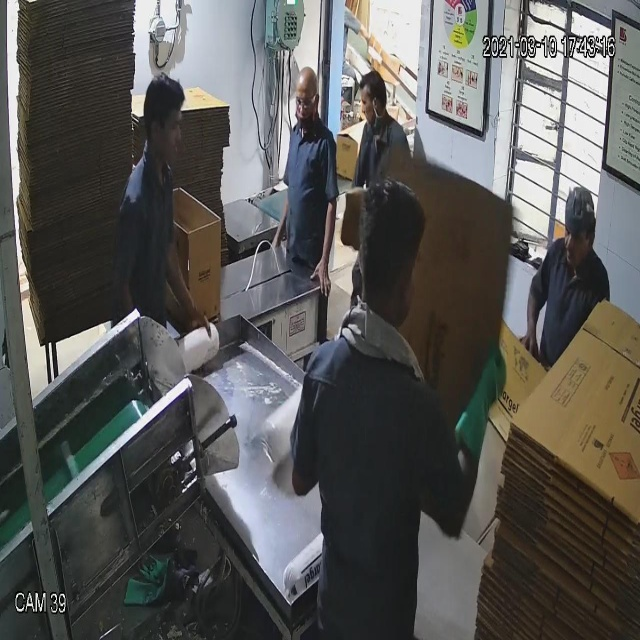Guantes: (449, 348, 520, 476)
Sin_guantes: (160, 221, 221, 348), (307, 188, 342, 306), (520, 277, 555, 381)
